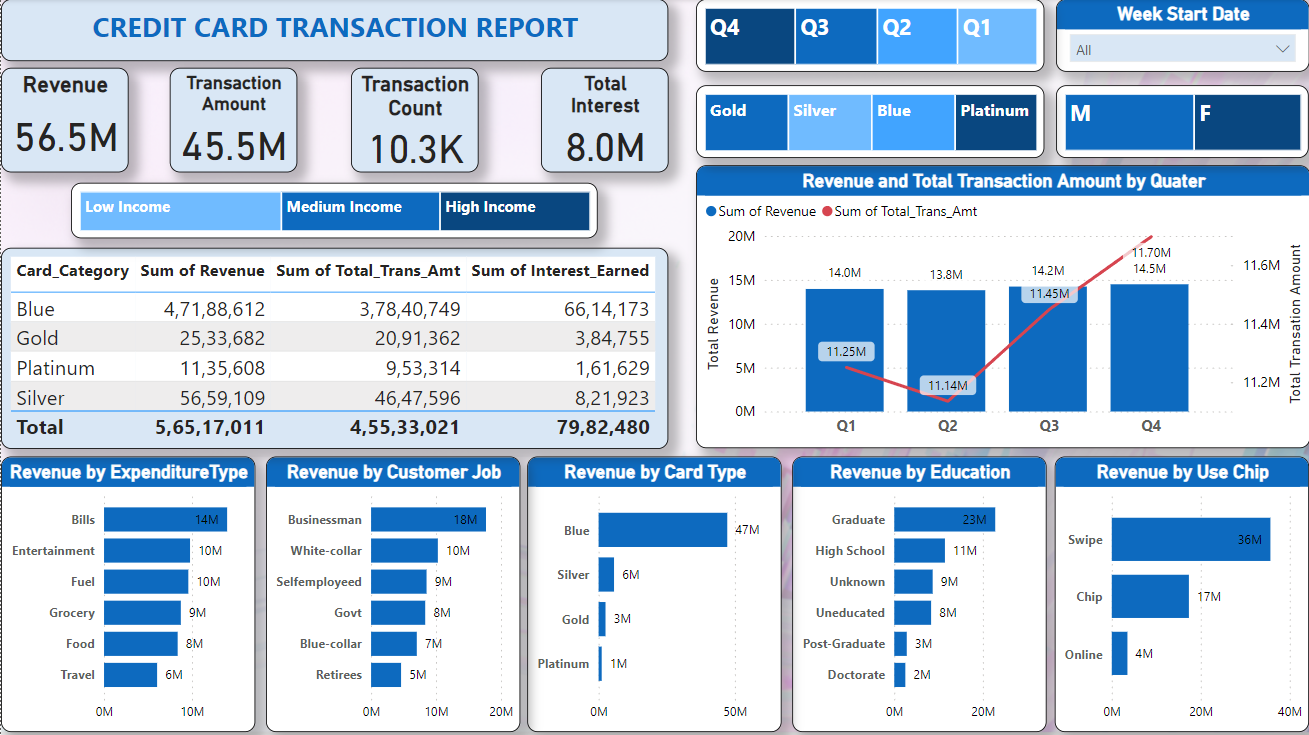

What the dashboard file says about the page in this screenshot:
{"tool":"powerbi","page":{"name":"CC Transaction","canvas":[1280,720],"ordinal":1},"visuals":[{"type":"lineStackedColumnComboChart","title":"Revenue and Total Transaction Amount by Quater","fields":{"Category":["ccdb cc_details.Qtr"],"Y":["Sum(ccdb cc_details.Revenue)"],"Y2":["Sum(ccdb cc_details.Total_Trans_Amt)"]},"box":[679.4,163.2,600.8,276.8],"z":0},{"type":"textbox","box":[0,0,652.8,60.4],"z":1000},{"type":"barChart","title":"Revenue by ExpenditureType","fields":{"Y":["Sum(ccdb cc_details.Revenue)"],"Category":["ccdb cc_details.Exp_Type"]},"box":[0,447.3,249,269.6],"z":2000},{"type":"barChart","title":"Revenue by Education","fields":{"Y":["Sum(ccdb cc_details.Revenue)"],"Category":["ccdb cust_details.Education_Level"]},"box":[773.7,447.3,249,269.6],"z":3000},{"type":"barChart","title":"Revenue by Card Type","fields":{"Y":["Sum(ccdb cc_details.Revenue)"],"Category":["ccdb cc_details.Card_Category"]},"box":[515,447.3,249,269.6],"z":4000},{"type":"barChart","title":"Revenue by Customer Job","fields":{"Y":["Sum(ccdb cc_details.Revenue)"],"Category":["ccdb cust_details.Customer_Job"]},"box":[258.7,447.3,249,269.6],"z":5000},{"type":"barChart","title":"Revenue by Use Chip","fields":{"Y":["Sum(ccdb cc_details.Revenue)"],"Category":["ccdb cc_details.Use_Chip"]},"box":[1031.2,447.3,249,269.6],"z":6000},{"type":"tableEx","fields":{"Values":["ccdb cc_details.Card_Category","Sum(ccdb cc_details.Revenue)","Sum(ccdb cc_details.Total_Trans_Amt)","Sum(ccdb cc_details.Interest_Earned)"]},"box":[0,243,652.8,197.1],"z":7000},{"type":"card","title":"Revenue","fields":{"Values":["Sum(ccdb cc_details.Revenue)"]},"box":[0,67.7,124.5,102.8],"z":8000},{"type":"card","title":"Transaction Amount","fields":{"Values":["Sum(ccdb cc_details.Total_Trans_Amt)"]},"box":[165.6,67.7,124.5,102.8],"z":9000},{"type":"card","title":"Transaction Count","fields":{"Values":["CountNonNull(ccdb cc_details.Total_Trans_Vol)"]},"box":[342.1,67.7,124.5,102.8],"z":10000},{"type":"card","title":"Total Interest","fields":{"Values":["Sum(ccdb cc_details.Interest_Earned)"]},"box":[528.3,67.7,124.5,102.8],"z":11000},{"type":"slicer","title":"Week Start Date","fields":{"Values":["ccdb cc_details.Week_Start_Date"]},"box":[1032.4,0,247.8,71.3],"z":12000},{"type":"treemap","fields":{"Group":["ccdb cc_details.Qtr"],"Values":["Avg(ccdb cc_details.ï»¿Client_Num)"]},"box":[679.4,0,340.9,71.3],"z":13000},{"type":"treemap","fields":{"Group":["ccdb cust_details.Gender"],"Values":["Sum(ccdb cc_details.Revenue)"]},"box":[1032.4,84.6,247,71],"z":14000},{"type":"treemap","fields":{"Group":["ccdb cc_details.Card_Category"],"Values":["Avg(ccdb cc_details.ï»¿Client_Num)"]},"box":[679.4,84.6,340.9,71.3],"z":15000},{"type":"treemap","fields":{"Group":["ccdb cust_details.IncomeGroup"],"Values":["Sum(ccdb cc_details.ï»¿Client_Num)"]},"box":[68.9,180.1,515,54.4],"z":16000}]}

Visuals, with their boxes in screenshot pixels (x1, y1, x2, y2), scaled from the page's 1280x720 canvas onto the 1309x735 screenshot:
"Revenue and Total Transaction Amount by Quater" lineStackedColumnComboChart: Rect(695, 167, 1308, 449)
textbox: Rect(0, 0, 668, 62)
"Revenue by ExpenditureType" barChart: Rect(0, 457, 255, 732)
"Revenue by Education" barChart: Rect(791, 457, 1046, 732)
"Revenue by Card Type" barChart: Rect(527, 457, 781, 732)
"Revenue by Customer Job" barChart: Rect(265, 457, 519, 732)
"Revenue by Use Chip" barChart: Rect(1055, 457, 1308, 732)
tableEx - ccdb cc_details.Card_Category x Sum(ccdb cc_details.Revenue): Rect(0, 248, 668, 449)
"Revenue" card: Rect(0, 69, 127, 174)
"Transaction Amount" card: Rect(169, 69, 297, 174)
"Transaction Count" card: Rect(350, 69, 477, 174)
"Total Interest" card: Rect(540, 69, 668, 174)
"Week Start Date" slicer: Rect(1056, 0, 1308, 73)
treemap - ccdb cc_details.Qtr x Avg(ccdb cc_details.ï»¿Client_Num): Rect(695, 0, 1043, 73)
treemap - ccdb cust_details.Gender x Sum(ccdb cc_details.Revenue): Rect(1056, 86, 1308, 159)
treemap - ccdb cc_details.Card_Category x Avg(ccdb cc_details.ï»¿Client_Num): Rect(695, 86, 1043, 159)
treemap - ccdb cust_details.IncomeGroup x Sum(ccdb cc_details.ï»¿Client_Num): Rect(70, 184, 597, 239)
